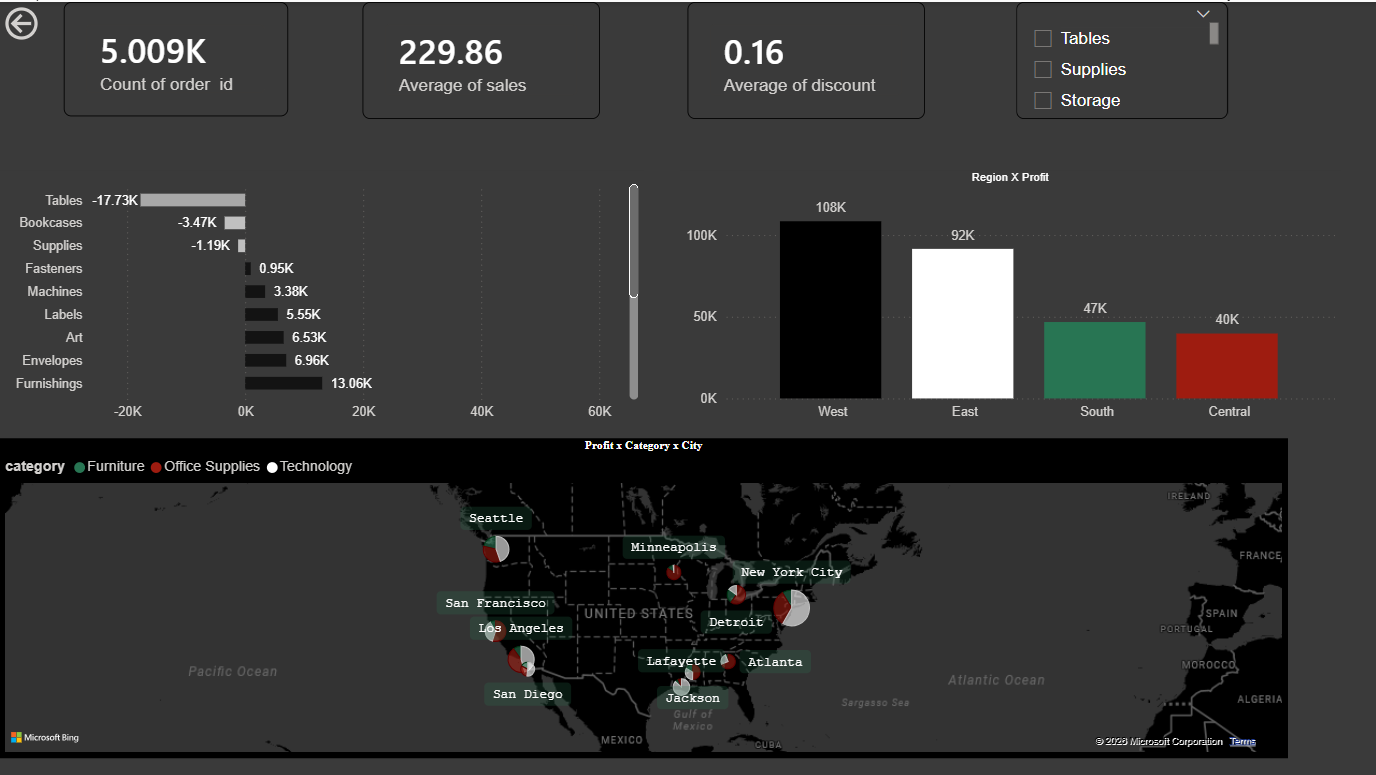

The dashboard page shown, as its layout file describes it:
{"tool":"powerbi","page":{"name":"Region/Profit/Category","canvas":[1280,720],"ordinal":2},"visuals":[{"type":"map","title":"Profit x Category x City","fields":{"Series":["public profit_ranking.category"],"Size":["Sum(public profit_ranking.profit)"],"Category":["public profit_ranking.city"]},"box":[0,405.6,1197.8,297.8],"z":0},{"type":"cardVisual","fields":{"Data":["Count(public profit_ranking.order_id)"]},"box":[58.9,0,208.9,106.7],"z":1000},{"type":"cardVisual","fields":{"Data":["Avg(public profit_ranking.discount)"]},"box":[640,0,221.1,108.9],"z":2000},{"type":"cardVisual","fields":{"Data":["Avg(public profit_ranking.sales)"]},"box":[337.8,0,221.1,108.9],"z":3000},{"type":"barChart","title":"Profit X Sub-category","fields":{"Y":["Sum(public profit_ranking.profit)"],"Category":["public profit_ranking.sub_category"]},"box":[0,156.7,598.9,240],"z":4000},{"type":"slicer","fields":{"Values":["public profit_ranking.sub_category"]},"box":[945.6,0,196.7,108.9],"z":5000},{"type":"clusteredColumnChart","title":"Region X Profit","fields":{"Category":["public profit_ranking.region"],"Y":["Sum(public profit_ranking.profit)"]},"box":[632.2,156.7,614.4,240],"z":6000},{"type":"actionButton","box":[0,0,100,40],"z":7000}]}

Visuals, with their boxes in screenshot pixels (x1, y1, x2, y2), scaled from the page's 1280x720 canvas onto the 1376x775 screenshot:
"Profit x Category x City" map: box=[0, 437, 1288, 757]
cardVisual - Count(public profit_ranking.order_id): box=[63, 0, 288, 115]
cardVisual - Avg(public profit_ranking.discount): box=[688, 0, 926, 117]
cardVisual - Avg(public profit_ranking.sales): box=[363, 0, 601, 117]
"Profit X Sub-category" barChart: box=[0, 169, 644, 427]
slicer - public profit_ranking.sub_category: box=[1017, 0, 1228, 117]
"Region X Profit" clusteredColumnChart: box=[680, 169, 1340, 427]
actionButton: box=[0, 0, 108, 43]
